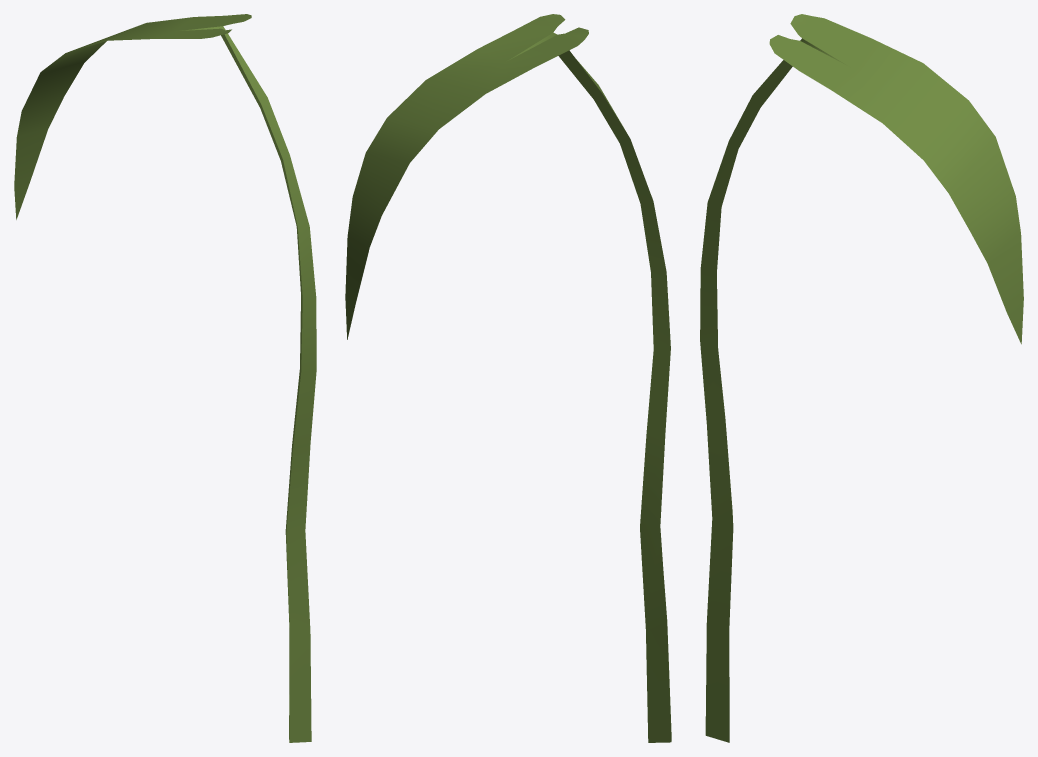
The model's file is plant_water_twig_solo_C.fbx.
The picture shows the model from 3 angles, left to right: view 1: azimuth 90°, elevation 25°; view 2: azimuth 150°, elevation 25°; view 3: azimuth 270°, elevation 25°; orthographic projection. The views are drawn at different scales.
Parts seen in each view (by area): view 1: plant_water_twig_solo_C; view 2: plant_water_twig_solo_C; view 3: plant_water_twig_solo_C.
Boxes of the visible parts, left/top/right/bottom form: plant_water_twig_solo_C: left=14, top=14, right=316, bottom=742; plant_water_twig_solo_C: left=345, top=14, right=671, bottom=742; plant_water_twig_solo_C: left=700, top=14, right=1023, bottom=742.
Size of the model in its own units: 7.45 by 25.95 by 10.28.
